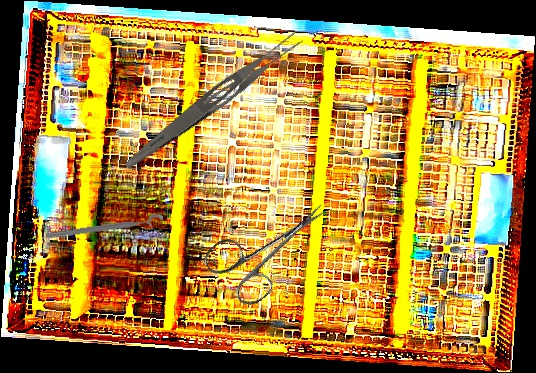Dressing Forceps: (120, 25, 308, 179)
Fixation Ring: (45, 212, 165, 249)
Iris Scissors: (199, 178, 345, 314)
